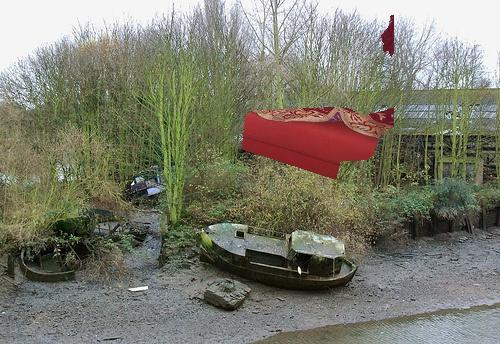tampered: (243, 15, 394, 179)
